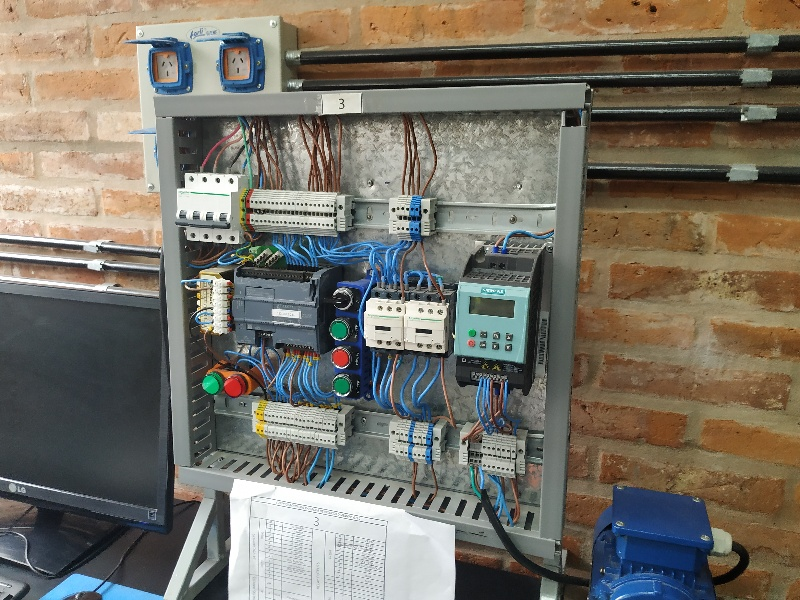Tablero 3: (165, 105, 556, 532)
